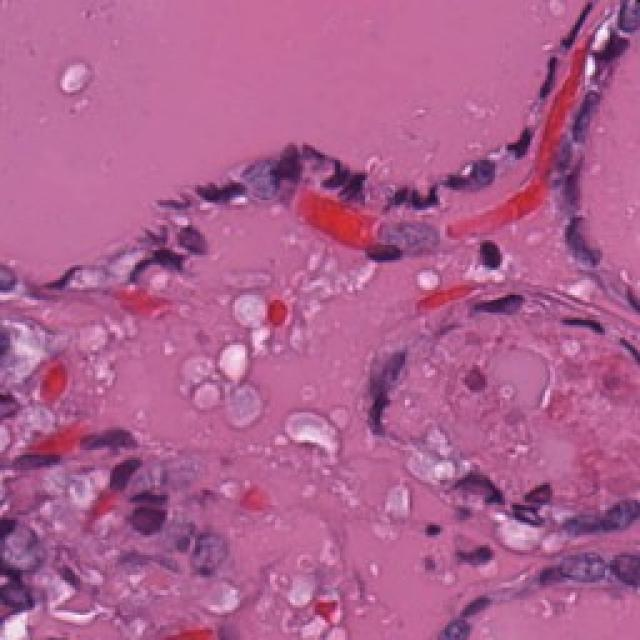normal: (555, 79, 629, 149), (543, 283, 610, 353), (558, 208, 614, 273), (537, 146, 591, 212), (476, 274, 532, 329)
